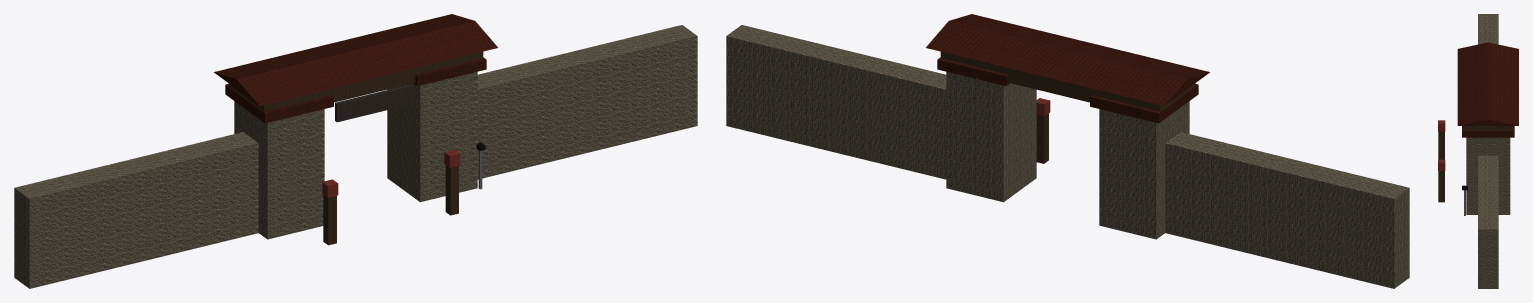
The model's file is castle_gate_01.glb.
3 renders of one model, left to right at view 1: azimuth 30°, elevation 25°; view 2: azimuth 150°, elevation 25°; view 3: azimuth 270°, elevation 25°, orthographic. The views are drawn at different scales.
Parts seen in each view (by area): view 1: castle_gate_01; view 2: castle_gate_01; view 3: castle_gate_01.
Boxes of the visible parts, box(x1,y1,x2,y2) form: castle_gate_01: box(14, 14, 697, 288); castle_gate_01: box(726, 14, 1409, 288); castle_gate_01: box(1438, 14, 1518, 288).
Size of the model in its own units: 35 by 7.6 by 5.55.
7 materials, 7 textured.
